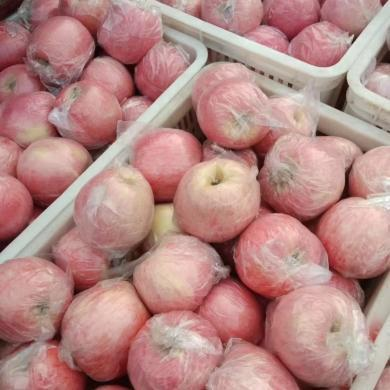apple: (271, 284, 370, 384), (62, 275, 149, 381), (124, 310, 222, 390), (232, 210, 321, 295), (173, 159, 264, 242), (132, 233, 222, 309), (74, 164, 153, 250), (266, 140, 344, 217), (1, 255, 72, 339), (318, 194, 390, 276), (129, 127, 202, 198), (197, 77, 270, 148), (16, 136, 93, 203), (53, 78, 122, 147), (27, 15, 93, 81), (97, 2, 164, 63), (134, 42, 190, 96), (1, 89, 56, 143), (289, 20, 351, 67)
